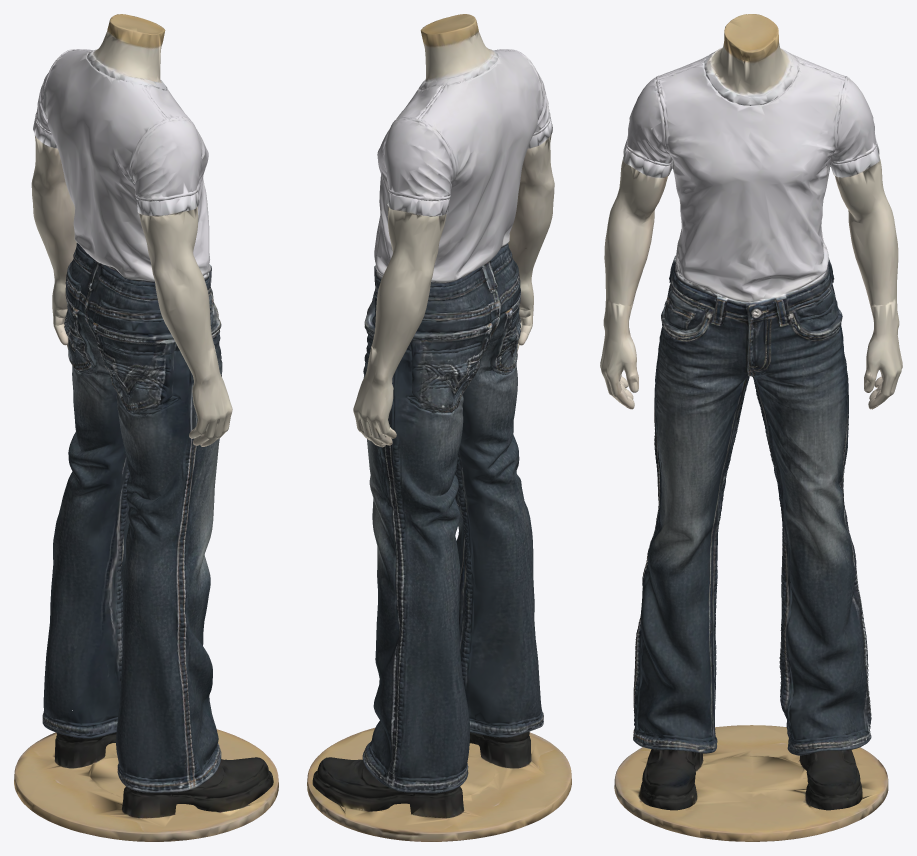
The model's file is bc_blue.glb.
3 renders of one model, left to right at view 1: azimuth 30°, elevation 25°; view 2: azimuth 150°, elevation 25°; view 3: azimuth 270°, elevation 25°, orthographic.
Visible parts, largest first — view 1: tripo_node_80fbbc27-19ee-49a3-9297-3844cd81b1ee; view 2: tripo_node_80fbbc27-19ee-49a3-9297-3844cd81b1ee; view 3: tripo_node_80fbbc27-19ee-49a3-9297-3844cd81b1ee.
Part boxes in pixels (x1,y1,x2,y2): tripo_node_80fbbc27-19ee-49a3-9297-3844cd81b1ee: (14,14,278,841); tripo_node_80fbbc27-19ee-49a3-9297-3844cd81b1ee: (307,14,571,841); tripo_node_80fbbc27-19ee-49a3-9297-3844cd81b1ee: (600,14,902,841).
Size of the model in its own units: 0.3031 by 0.9781 by 0.3542.
1 material, 1 textured.
